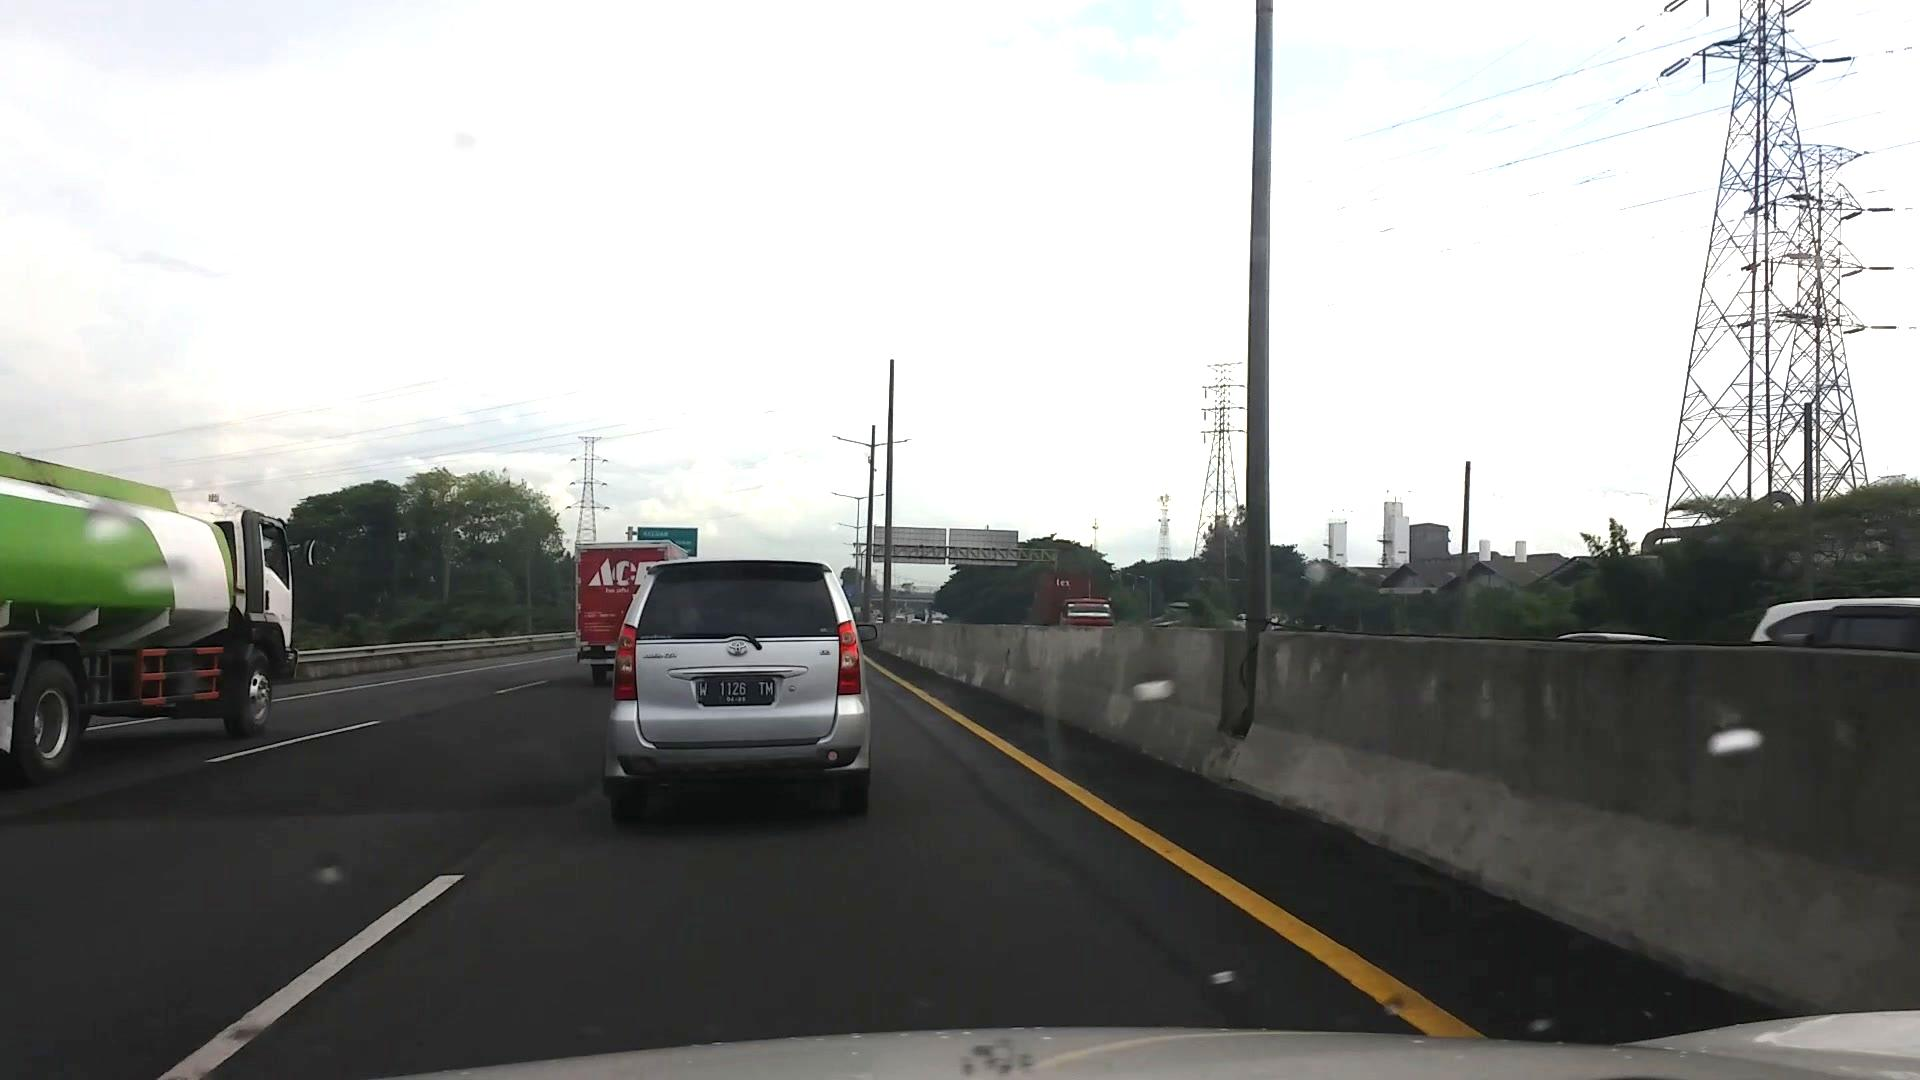plate_positive: (696, 679, 775, 705)
